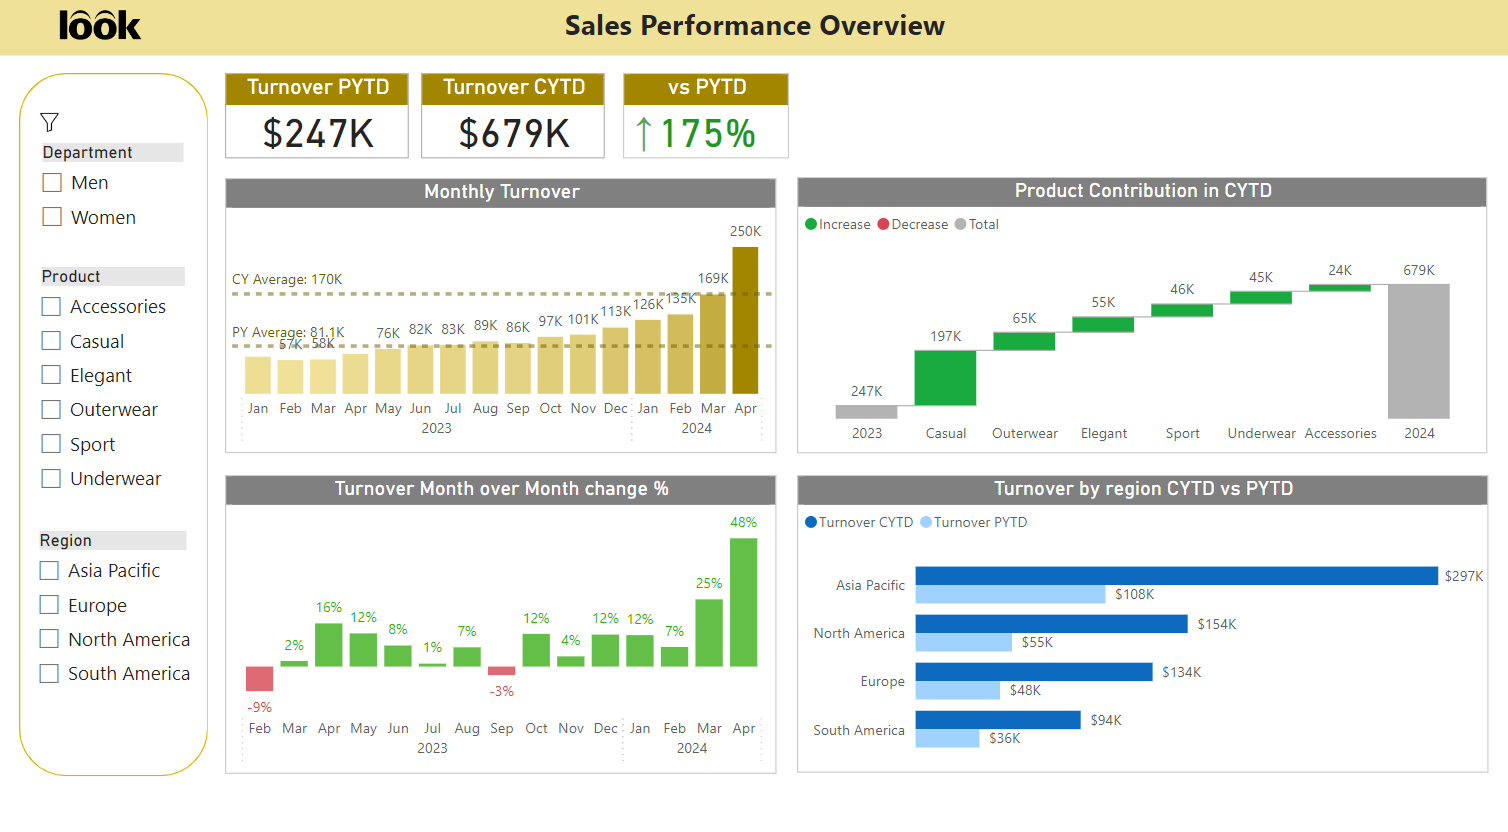

Layout of this report page (visuals, bound fields, positions):
{"tool":"powerbi","page":{"name":"Sales Overview","canvas":[1280,720],"ordinal":0},"visuals":[{"type":"shape","box":[19.7,65.4,159.4,592.8],"z":0},{"type":"shape","box":[0,0,1280,51],"z":1000},{"type":"clusteredColumnChart","title":"Turnover Month over Month change %","fields":{"Category":["DatesCalendar.Year","DatesCalendar.Month"],"Y":["DatesCalendar.turnover MoM%"]},"box":[193.4,404.8,464.8,251.6],"z":2000},{"type":"card","title":"Turnover CYTD","fields":{"Values":["Measures_.Turnover CYTD"]},"box":[358.1,65.4,155,72],"z":3000},{"type":"image","box":[44.8,6.3,85.1,37.6],"z":4000},{"type":"textbox","box":[464.8,2.7,351,44.8],"z":5000},{"type":"card","title":"vs PYTD","fields":{"Values":["Measures_.Turnover CYTDvsPYTD %"]},"box":[529.1,65.4,140,72],"z":5000,"group":"g1"},{"type":"card","fields":{"Values":["Measures_.KPI Symbol CYTDvsPYTD"]},"box":[521.1,85.4,50,52],"z":6000,"group":"g1"},{"type":"clusteredColumnChart","title":"Monthly Turnover","fields":{"Category":["DatesCalendar.Year","DatesCalendar.Month"],"Y":["Measures_.Total Turnover"]},"box":[193.4,154,464.8,231.9],"z":6000},{"type":"group","id":"g1","title":"Group 1","box":[521.1,65.4,148,72],"z":7000},{"type":"card","title":"Turnover PYTD","fields":{"Values":["Measures_.Turnover PYTD"]},"box":[193.1,65.4,155,72],"z":8000},{"type":"slicer","fields":{"Values":["DimProducts.department"]},"box":[26,120,145.1,89.6],"z":9000},{"type":"waterfallChart","title":"Product Contribution in CYTD","fields":{"Y":["Measures_.Total Turnover"],"Category":["DatesCalendar.Year"],"Breakdown":["DimProducts.product_group"]},"box":[675.2,153.6,582.1,232.8],"z":9000,"group":"g2"},{"type":"clusteredBarChart","title":"Turnover by region CYTD vs PYTD","fields":{"Y":["Measures_.Turnover CYTD","Measures_.Turnover PYTD"],"Category":["DimUsers.region"]},"box":[675.2,404.9,582.7,251.4],"z":10000},{"type":"image","box":[32.2,94,26,26],"z":11000},{"type":"slicer","fields":{"Values":["DimProducts.product_group"]},"box":[25.1,223.9,146.9,212.2],"z":12000},{"type":"group","id":"g2","title":"Group 2","box":[675.2,153.6,582.1,232.8],"z":13000},{"type":"slicer","fields":{"Values":["DimUsers.region"]},"box":[23.3,446.9,150.4,161.2],"z":14000},{"type":"shape","box":[846.9,186.2,55.5,17.9],"z":15000,"group":"g2"}]}

Visuals, with their boxes in screenshot pixels (x1, y1, x2, y2), scaled from the page's 1280x720 canvas onto the 1508x832 screenshot:
shape: pyautogui.locateOnScreen(23, 76, 211, 761)
shape: pyautogui.locateOnScreen(0, 0, 1507, 59)
"Turnover Month over Month change %" clusteredColumnChart: pyautogui.locateOnScreen(228, 468, 775, 759)
"Turnover CYTD" card: pyautogui.locateOnScreen(422, 76, 604, 159)
image: pyautogui.locateOnScreen(53, 7, 153, 51)
textbox: pyautogui.locateOnScreen(548, 3, 961, 55)
"vs PYTD" card: pyautogui.locateOnScreen(623, 76, 788, 159)
card - Measures_.KPI Symbol CYTDvsPYTD: pyautogui.locateOnScreen(614, 99, 673, 159)
"Monthly Turnover" clusteredColumnChart: pyautogui.locateOnScreen(228, 178, 775, 446)
"Group 1" group: pyautogui.locateOnScreen(614, 76, 788, 159)
"Turnover PYTD" card: pyautogui.locateOnScreen(227, 76, 410, 159)
slicer - DimProducts.department: pyautogui.locateOnScreen(31, 139, 202, 242)
"Product Contribution in CYTD" waterfallChart: pyautogui.locateOnScreen(795, 177, 1481, 447)
"Turnover by region CYTD vs PYTD" clusteredBarChart: pyautogui.locateOnScreen(795, 468, 1482, 758)
image: pyautogui.locateOnScreen(38, 109, 69, 139)
slicer - DimProducts.product_group: pyautogui.locateOnScreen(30, 259, 203, 504)
"Group 2" group: pyautogui.locateOnScreen(795, 177, 1481, 447)
slicer - DimUsers.region: pyautogui.locateOnScreen(27, 516, 205, 703)
shape: pyautogui.locateOnScreen(998, 215, 1063, 236)
